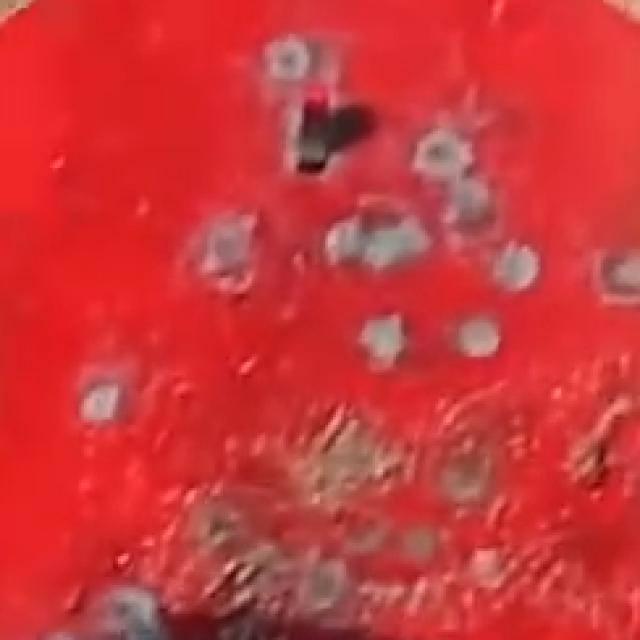bullets: (411, 125, 475, 186), (490, 240, 543, 290), (261, 34, 316, 82), (296, 560, 348, 609), (360, 313, 409, 360), (455, 313, 504, 359), (204, 221, 254, 266), (443, 456, 487, 498), (600, 249, 640, 293), (77, 382, 115, 418)
